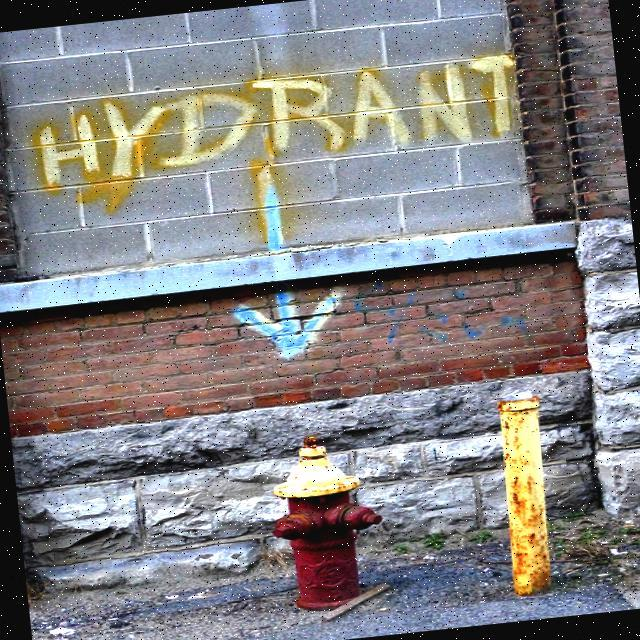fire_hydrant: (261, 429, 393, 615)
